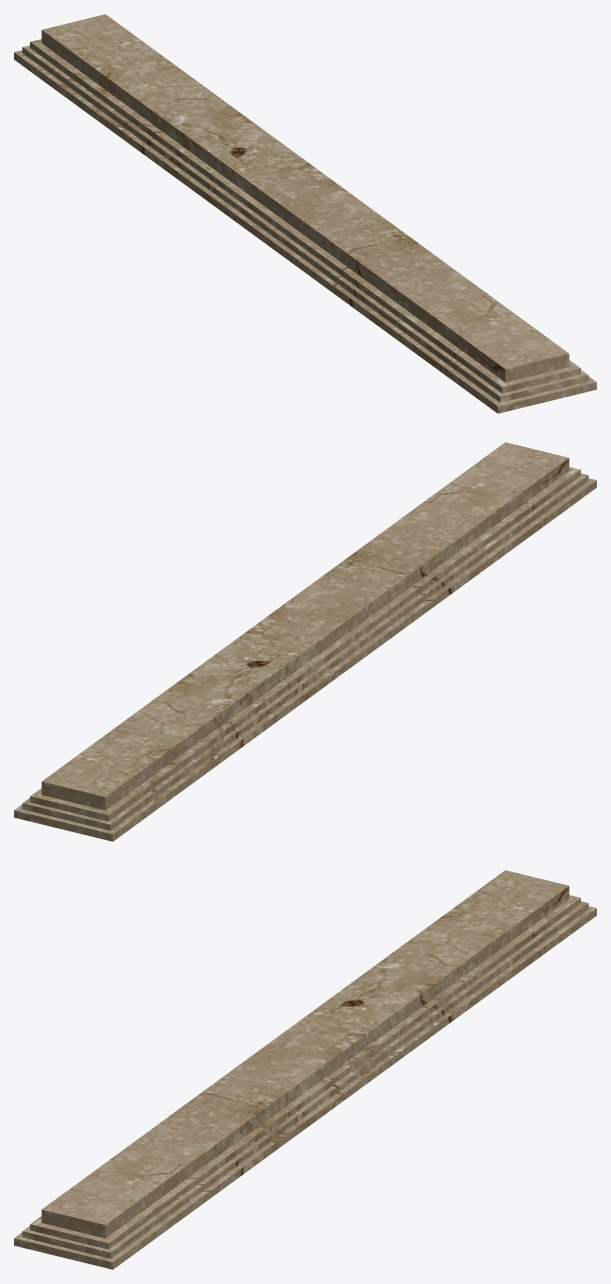
File: pasted__stone_column_845.fbx
The picture shows the model from 3 angles, top to bottom: view 1: azimuth 30°, elevation 25°; view 2: azimuth 150°, elevation 25°; view 3: azimuth 330°, elevation 25°; orthographic projection.
Visible parts, largest first — view 1: pasted__stone_column_845; view 2: pasted__stone_column_845; view 3: pasted__stone_column_845.
Part boxes in pixels (<box>): pasted__stone_column_845: <box>14,14,596,413</box>; pasted__stone_column_845: <box>14,442,596,841</box>; pasted__stone_column_845: <box>14,870,596,1269</box>.
Size of the model in its own units: 7.79 by 65.93 by 2.47.
